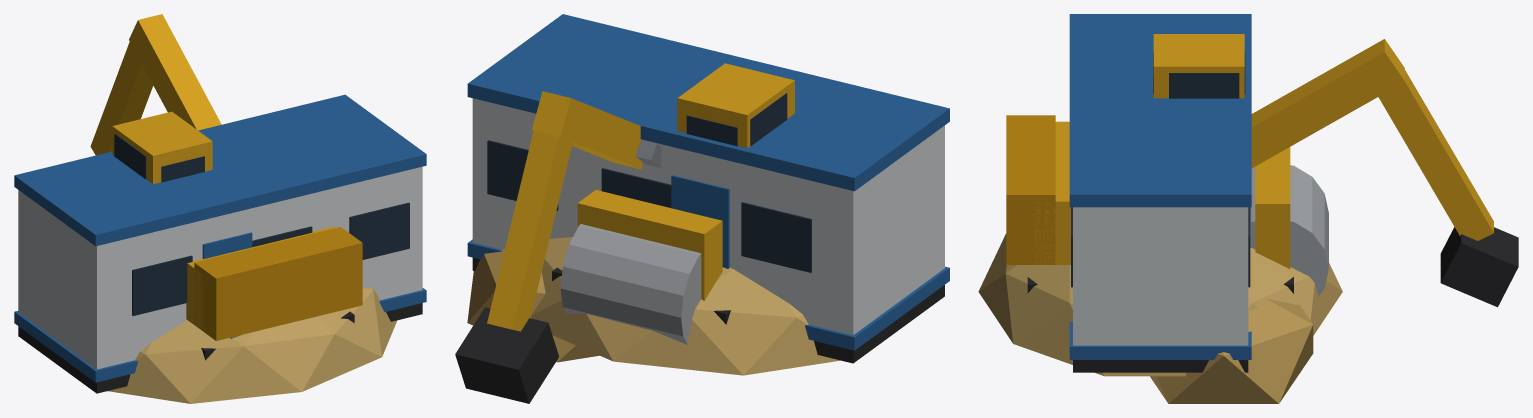
The model's file is works.glb.
The picture shows the model from 3 angles, left to right: view 1: azimuth 30°, elevation 25°; view 2: azimuth 150°, elevation 25°; view 3: azimuth 270°, elevation 25°; orthographic projection. The views are drawn at different scales.
Visible parts, largest first — view 1: cabin, excavator, sand; view 2: cabin, excavator, sand, roller; view 3: cabin, excavator, sand, roller.
Part boxes in pixels (x1,y1,x2,y2): cabin: (14,94,426,393); excavator: (90,14,362,360); sand: (107,287,397,403); cabin: (467,14,949,363); excavator: (455,63,794,403); sand: (467,237,840,375); roller: (560,190,722,344); cabin: (1069,14,1251,372); excavator: (1006,34,1518,307); sand: (978,233,1342,403); roller: (1250,147,1328,296).
Size of the model in its own units: 6.17 by 5.13 by 7.71.
